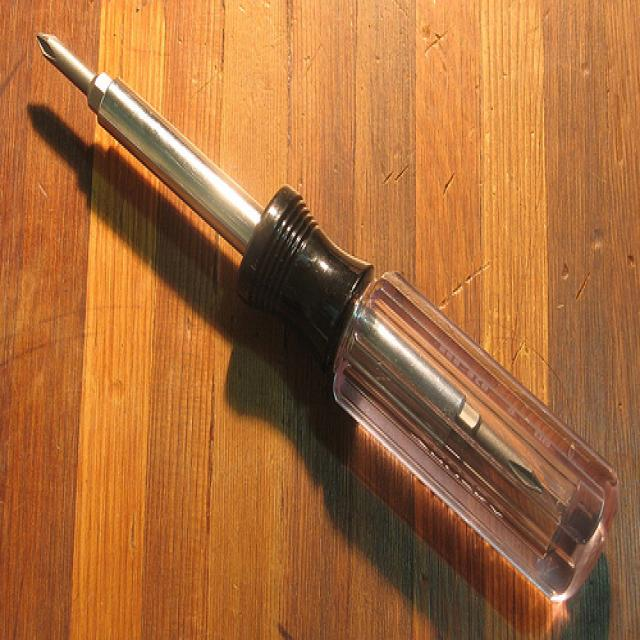screw_driver: (35, 31, 617, 606)
